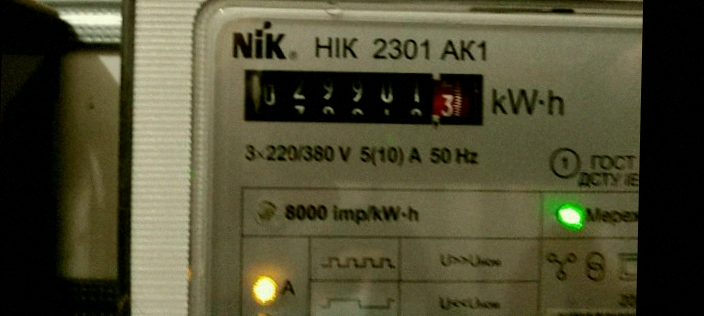0: (258, 79, 277, 106), (377, 76, 394, 105)
1: (408, 75, 422, 104)
2: (288, 74, 307, 101)
3: (437, 91, 455, 117)
9: (318, 74, 335, 102), (349, 76, 363, 103)
screen: (233, 58, 494, 136)
